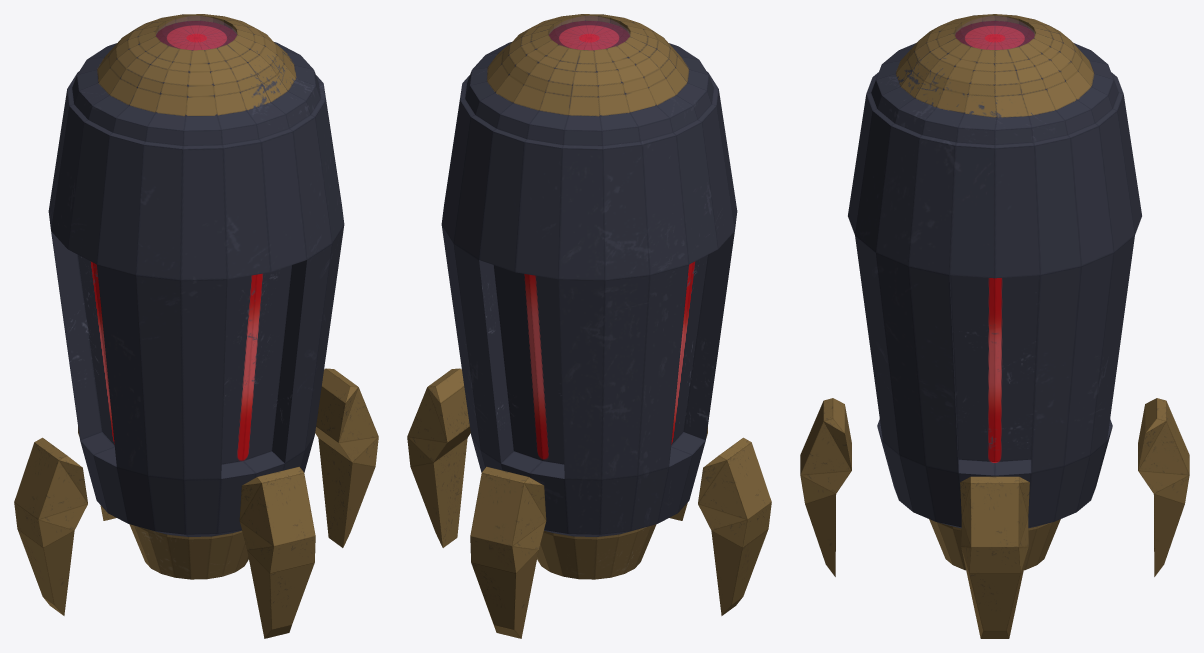
The model's file is missoile.glb.
3 views of the same model, side by side, from view 1: azimuth 30°, elevation 25°; view 2: azimuth 150°, elevation 25°; view 3: azimuth 270°, elevation 25° (orthographic).
Visible parts, largest first — view 1: 円柱, 立方体.003, 立方体.002, 立方体, 球; view 2: 円柱, 立方体.001, 立方体.002, 立方体, 球; view 3: 円柱, 立方体, 立方体.001, 立方体.003, 球.
Part boxes in pixels (x1,y1,x2,y2): 円柱: [48, 14, 344, 579]; 立方体.003: [239, 466, 315, 638]; 立方体.002: [14, 437, 87, 615]; 立方体: [315, 368, 378, 547]; 球: [156, 16, 236, 49]; 円柱: [441, 14, 737, 579]; 立方体.001: [470, 466, 546, 638]; 立方体.002: [698, 437, 771, 615]; 立方体: [407, 368, 470, 547]; 球: [549, 16, 629, 49]; 円柱: [848, 14, 1141, 570]; 立方体: [960, 476, 1029, 638]; 立方体.001: [1138, 398, 1189, 576]; 立方体.003: [800, 398, 851, 576]; 球: [955, 16, 1034, 49].
Bounding box in the file's own units: 1.51 × 2.36 × 1.51.
Materials: 3 (3 with a texture image).
